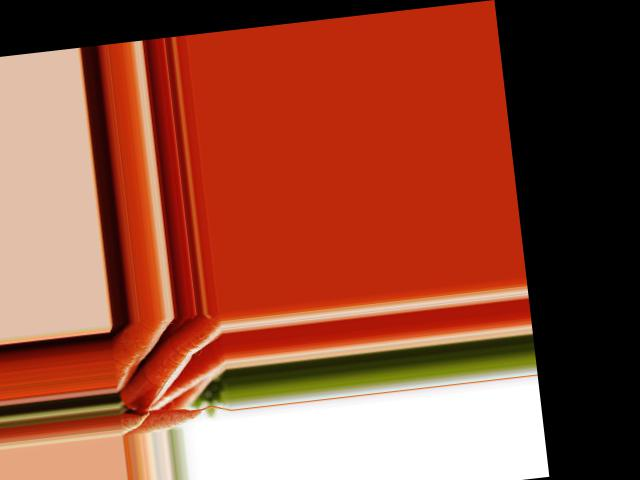carrot: (139, 349, 219, 418)
